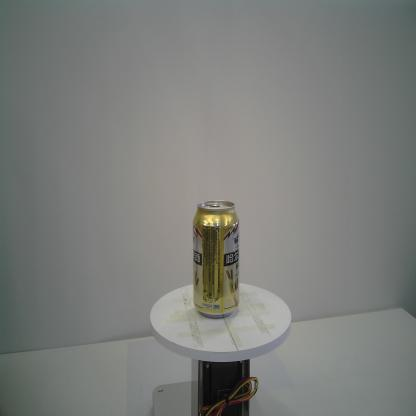Alcohol: (192, 199, 240, 320)
